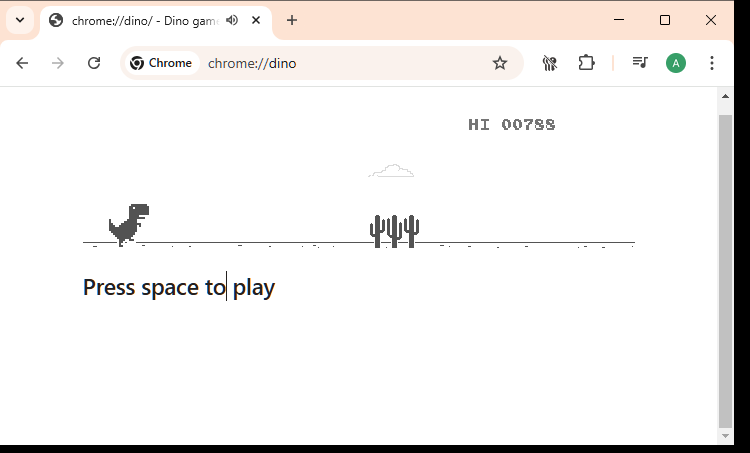cactus: (369, 214, 386, 249), (386, 214, 403, 249), (403, 214, 420, 249)
dino: (108, 203, 150, 247)
